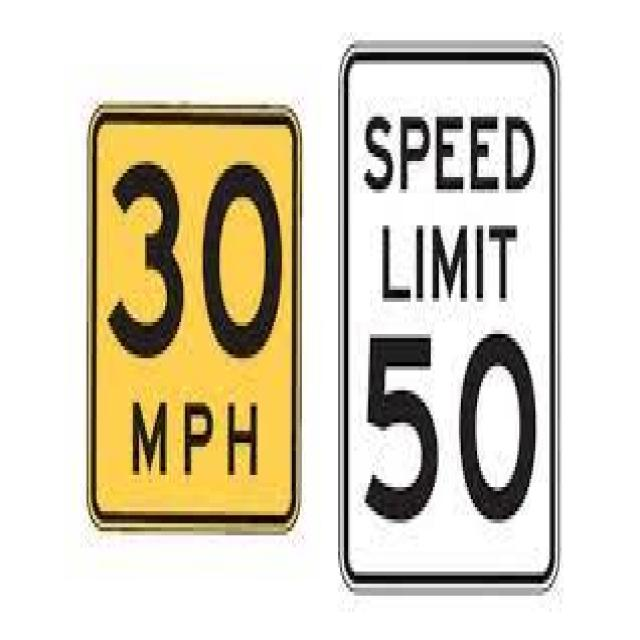speedLimit50: (335, 34, 561, 586)
